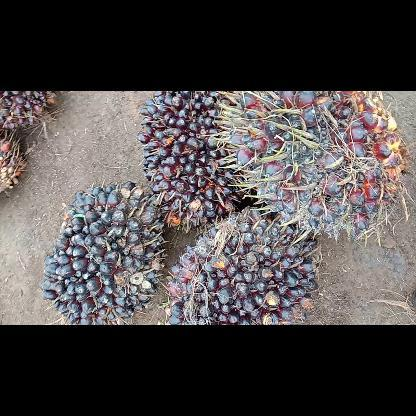TBS mentah: (215, 91, 415, 243), (158, 202, 322, 324), (39, 178, 169, 324), (132, 91, 252, 233)
